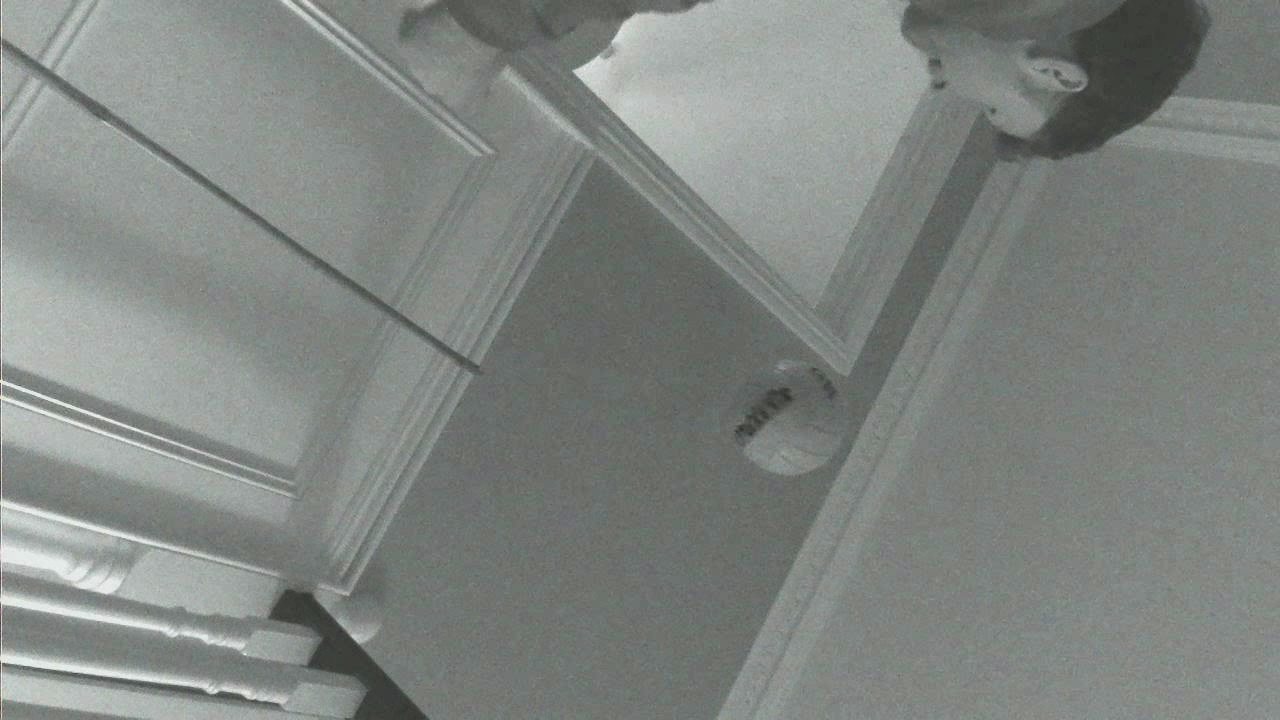Football-Spotter: (725, 361, 847, 476)
